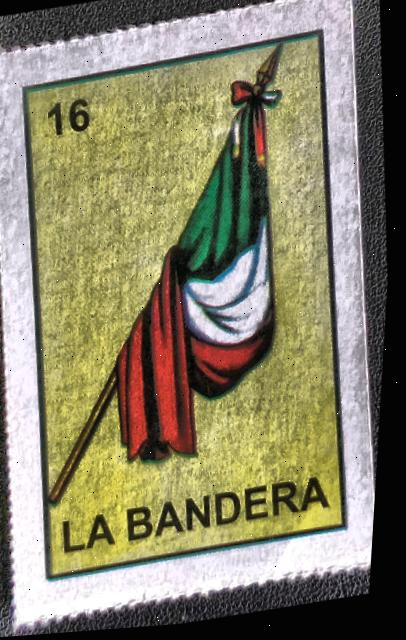La Bandera: (11, 5, 375, 609)
